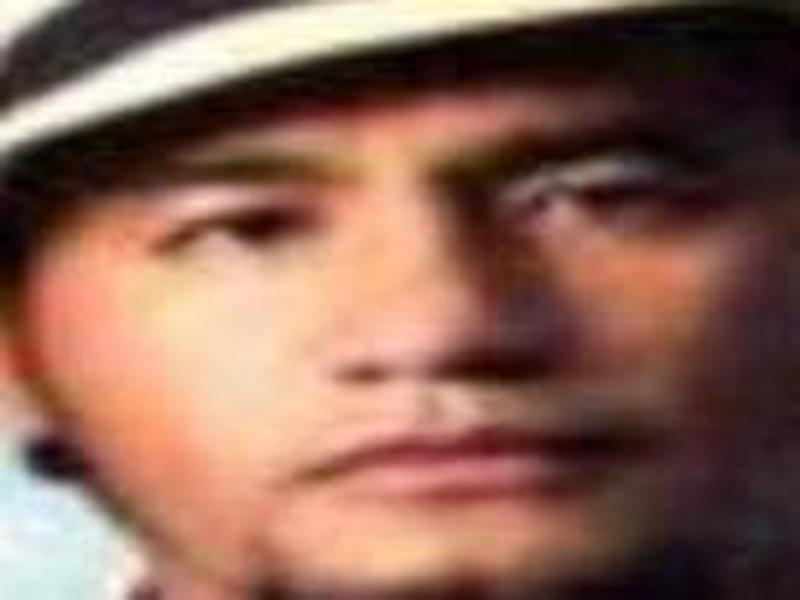without_mask: (31, 97, 791, 589)
